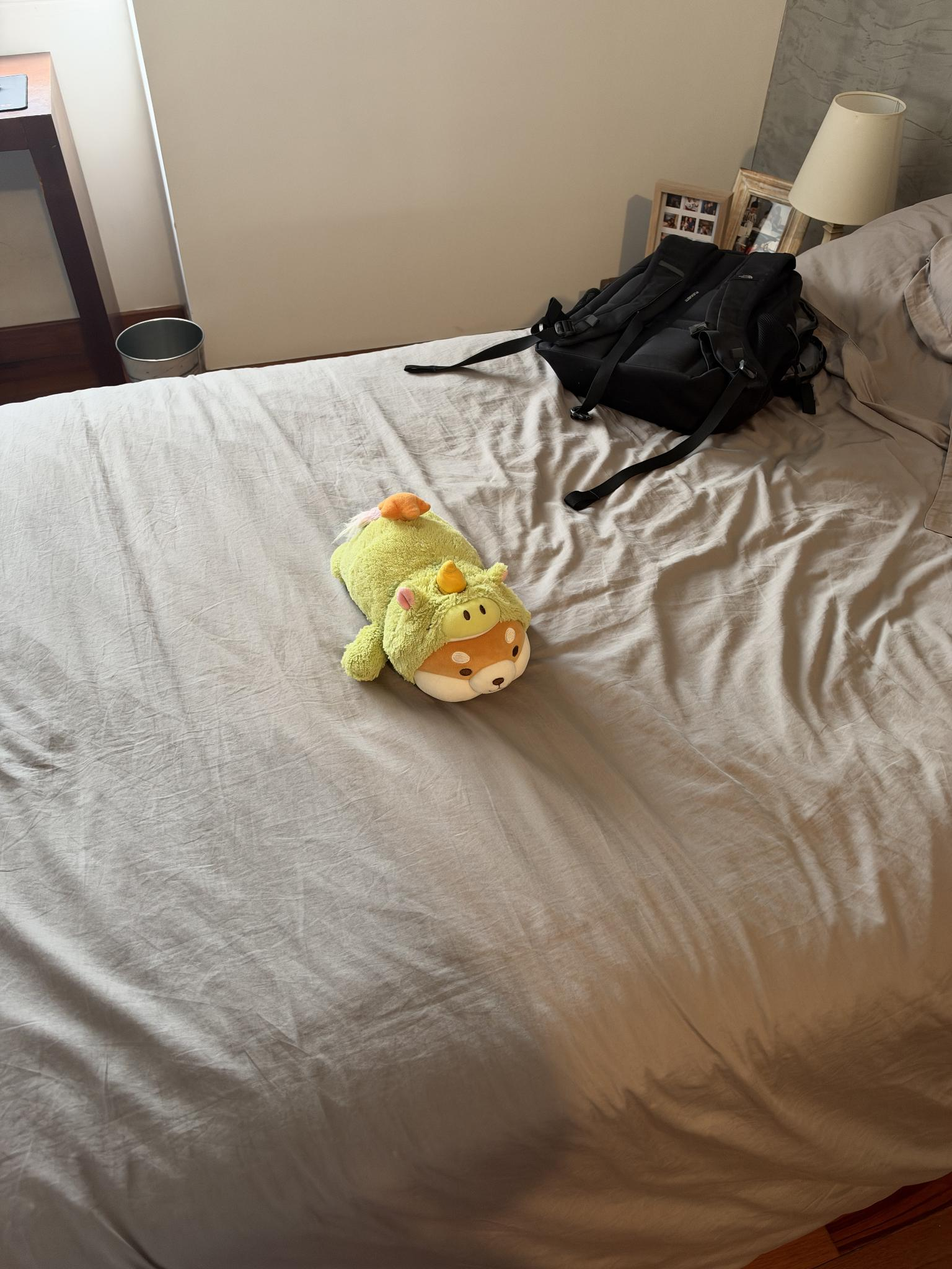peluche_martin: (328, 490, 533, 704)
